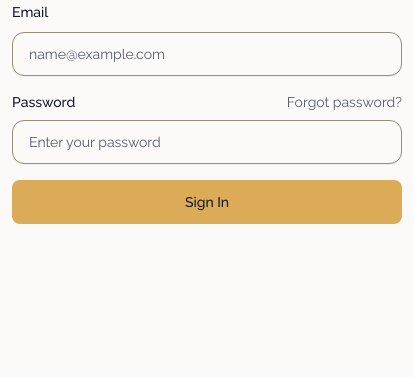
Test: LoginForm › shows the suspended message with a support link
Step 1. Type "a@b.com" into the field labelled "Email" → (207, 54), box [12,32,402,76]
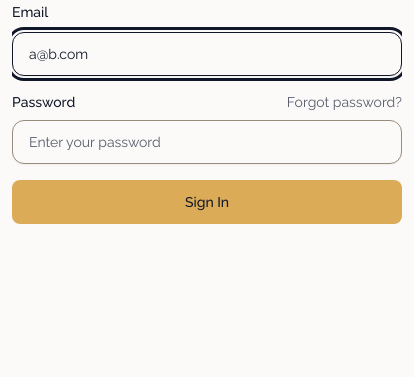
Step 2. Type "secret123" into the password field labelled "Password" → (207, 142), box [12,120,402,164]
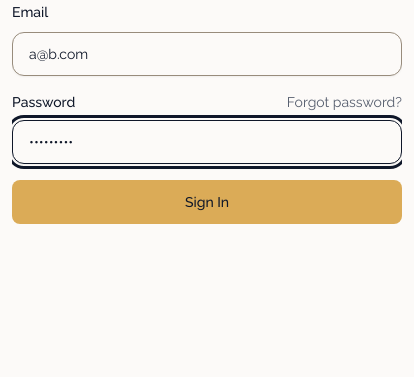
Step 3. Click the button "Sign In" → (207, 202), box [12,180,402,224]
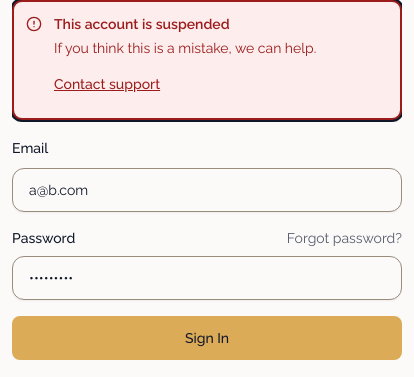
Check: the message shows "This account is suspended", box [54,16,230,32]
